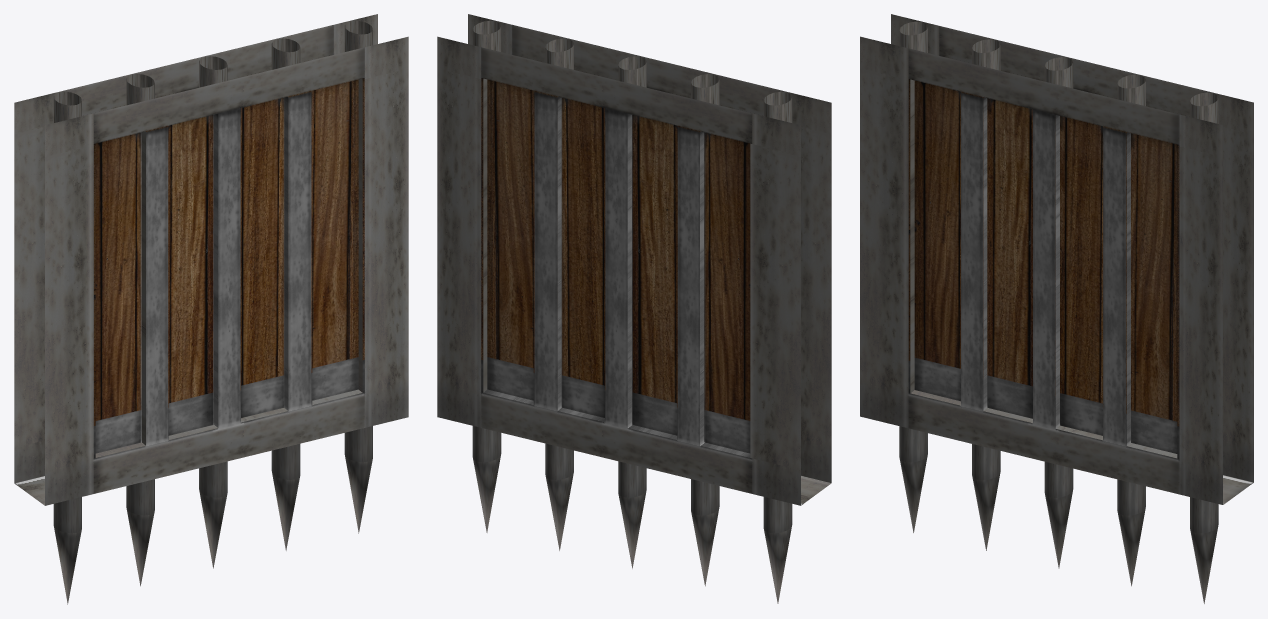
File: dungeon_door.glb
3 renders of one model, left to right at view 1: azimuth 30°, elevation 25°; view 2: azimuth 150°, elevation 25°; view 3: azimuth 330°, elevation 25°, orthographic.
Visible parts, largest first — view 1: door; view 2: door; view 3: door.
Part boxes in pixels (box(x1,y1,x2,y2)): door: box(14, 14, 408, 604); door: box(437, 14, 831, 603); door: box(860, 14, 1253, 603).
Size of the model in its own units: 3.75 by 4.99 by 0.5509.
1 material, 1 textured.
